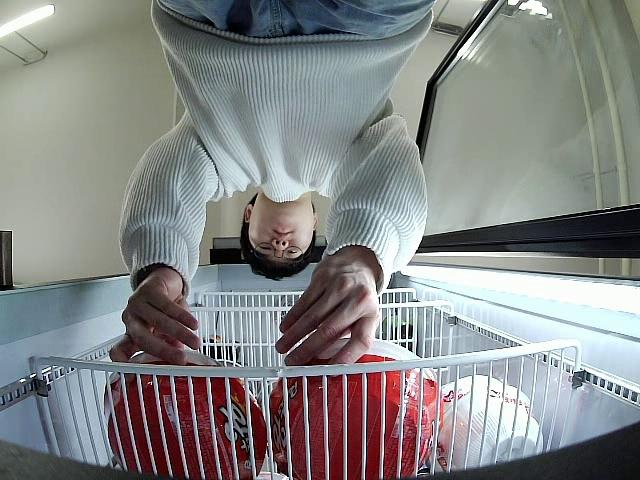00_hand: (275, 270, 379, 377), (109, 289, 203, 381)
10_wangTtukkeong: (271, 338, 446, 480), (104, 351, 268, 480)
